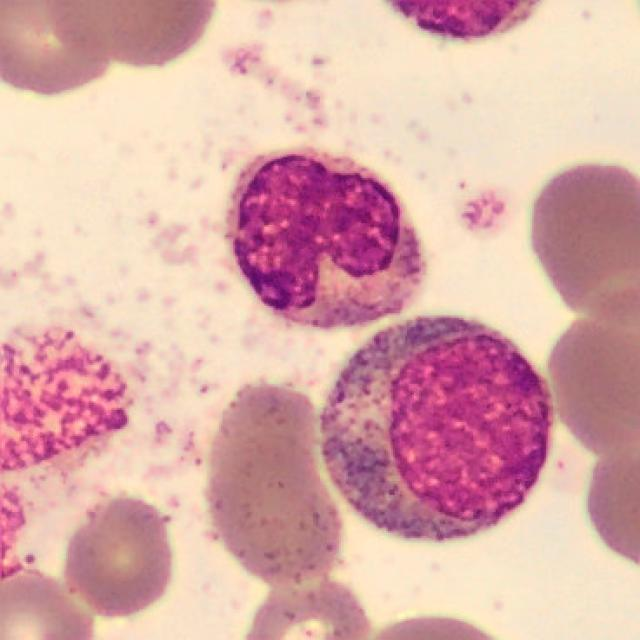Metamielocito: (230, 150, 424, 330)
Mielocito: (320, 318, 553, 543)
